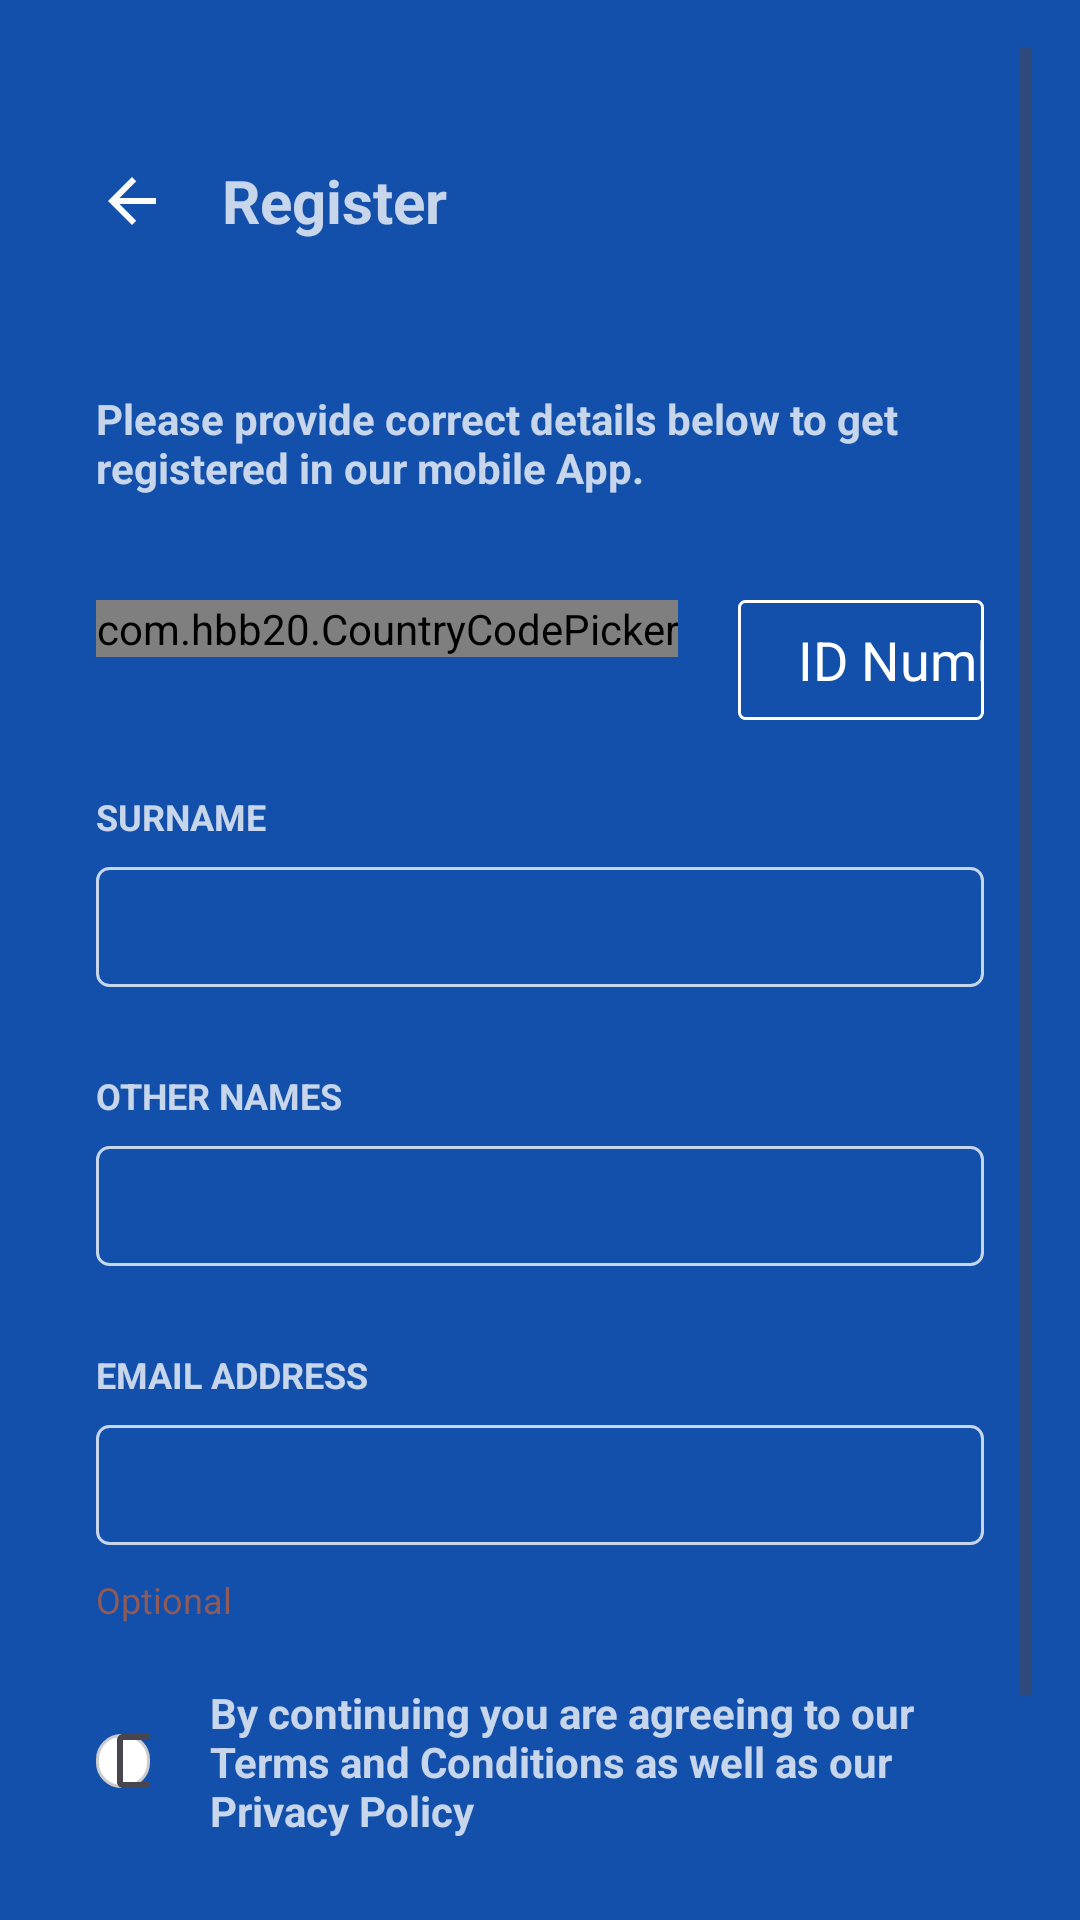

Screen size 1080*1920. Icon name, then its center in pixels as point (x, y):
back: point (132, 201)
